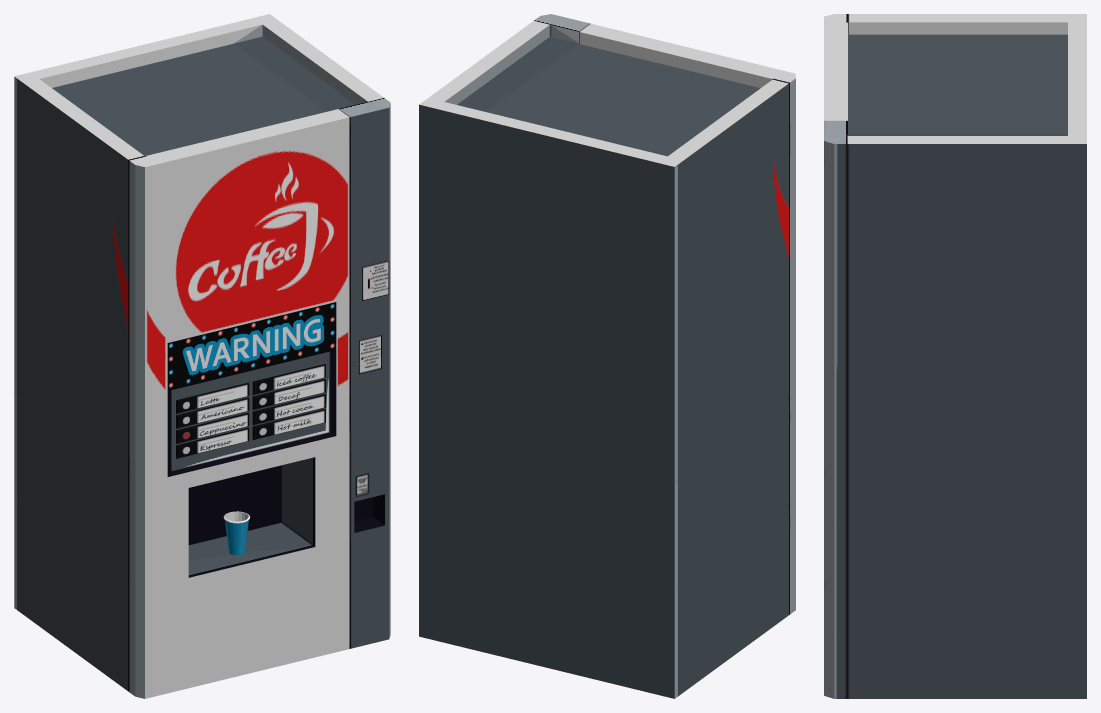
The model's file is coffe_machine.glb.
3 views of the same model, side by side, from view 1: azimuth 30°, elevation 25°; view 2: azimuth 150°, elevation 25°; view 3: azimuth 270°, elevation 25° (orthographic). The views are drawn at different scales.
Visible parts, largest first — view 1: Cube; view 2: Cube; view 3: Cube.
Part boxes in pixels (x1,y1,x2,y2): Cube: (14,14,390,698); Cube: (419,14,795,698); Cube: (824,14,1086,698).
Size of the model in its own units: 0.9576 by 1.9 by 0.8175.
Materials: 2 (2 with a texture image).
